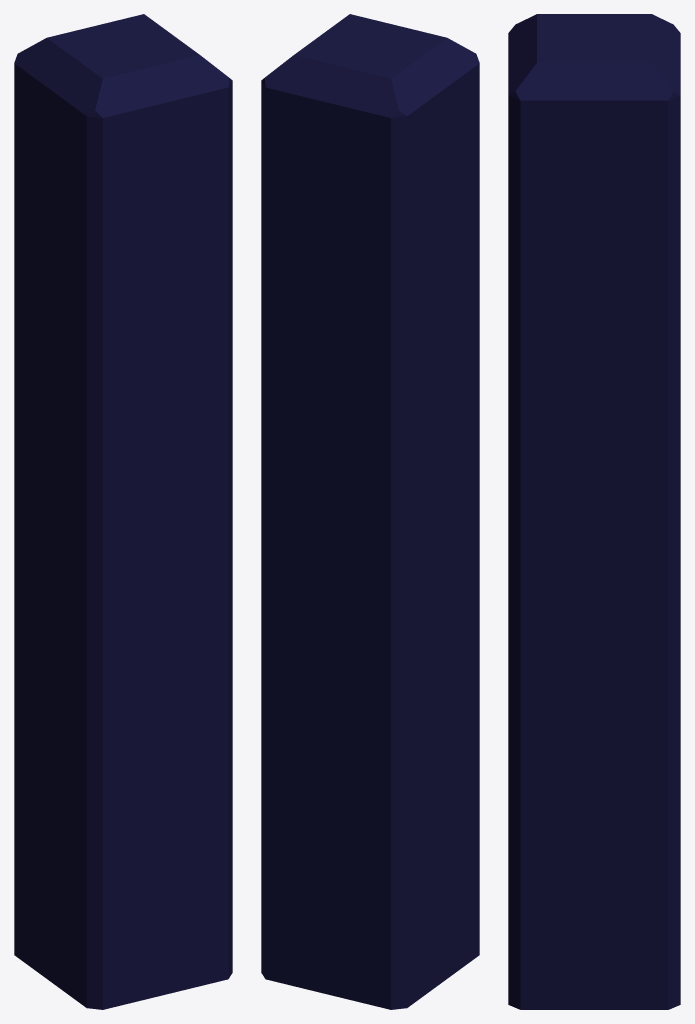
File: pilier.fbx
3 views of the same model, side by side, from view 1: azimuth 30°, elevation 25°; view 2: azimuth 150°, elevation 25°; view 3: azimuth 270°, elevation 25° (orthographic).
Parts seen in each view (by area): view 1: Pilier; view 2: Pilier; view 3: Pilier.
Part boxes in pixels (x1,y1,x2,y2): Pilier: [14, 14, 232, 1009]; Pilier: [261, 14, 479, 1009]; Pilier: [508, 14, 680, 1009].
Bounding box in the file's own units: 1.5 × 9 × 1.5.
